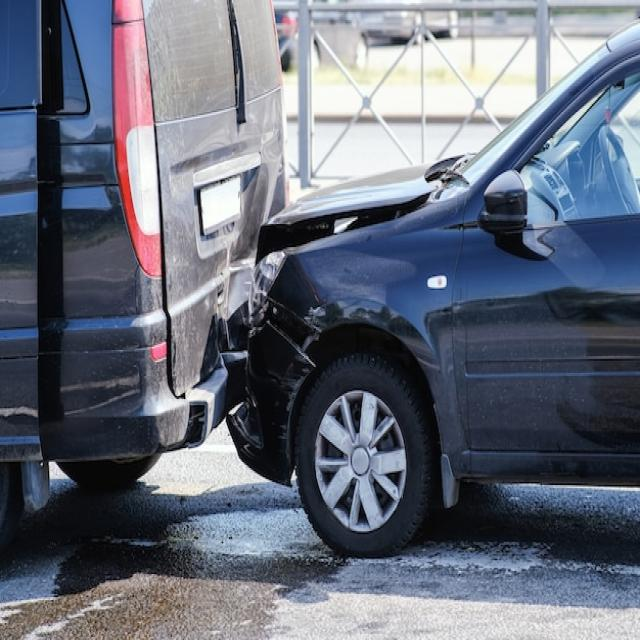crush: (226, 193, 436, 465), (201, 152, 276, 426)
